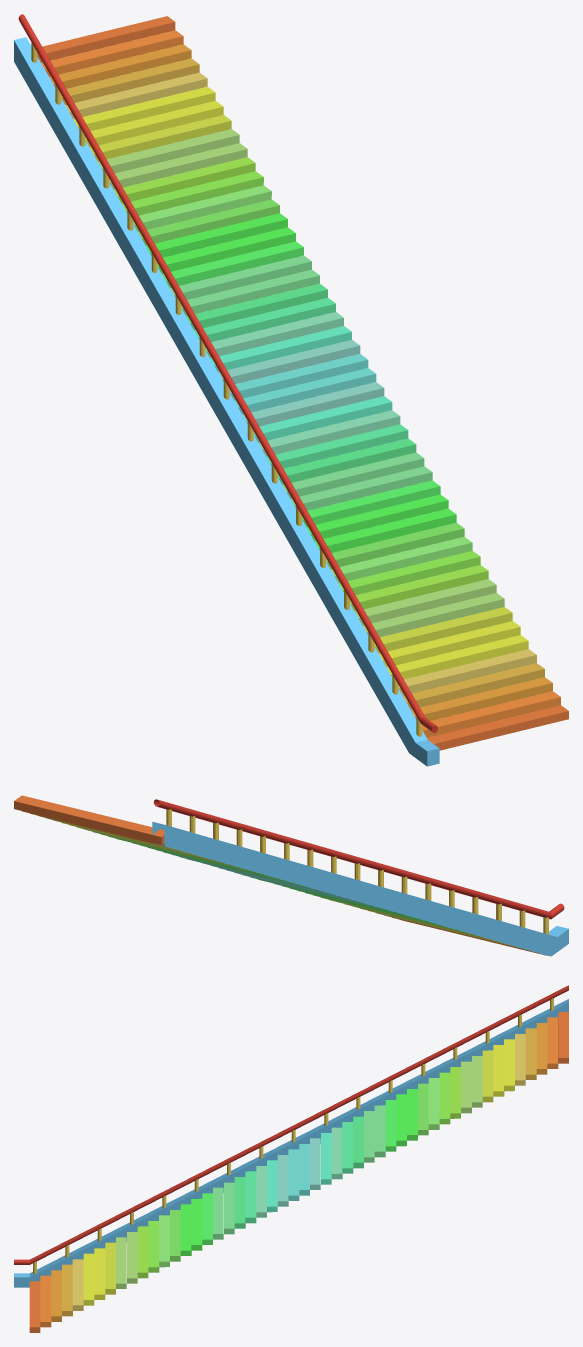
Rendered from Stairs_Start2.fbx.
The picture shows the model from 3 angles, top to bottom: view 1: azimuth 30°, elevation 25°; view 2: azimuth 150°, elevation 25°; view 3: azimuth 270°, elevation 25°; orthographic projection. The views are drawn at different scales.
Visible parts, largest first — view 1: Stairs_Start.026; view 2: Stairs_Start.026; view 3: Stairs_Start.026.
Boxes of the visible parts, x1,y1,x2,y2 form: Stairs_Start.026: [14, 14, 568, 766]; Stairs_Start.026: [14, 795, 568, 956]; Stairs_Start.026: [14, 985, 568, 1332].
Size of the model in its own units: 2.46 by 6.86 by 11.47.
